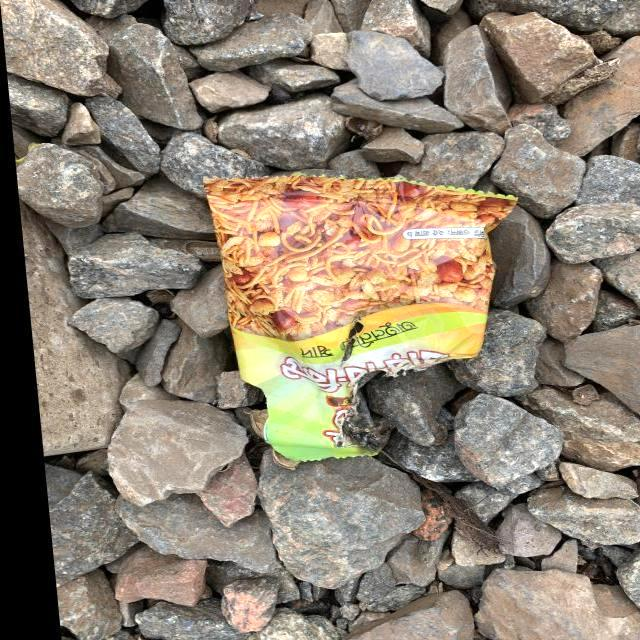packet: (186, 156, 538, 469)
